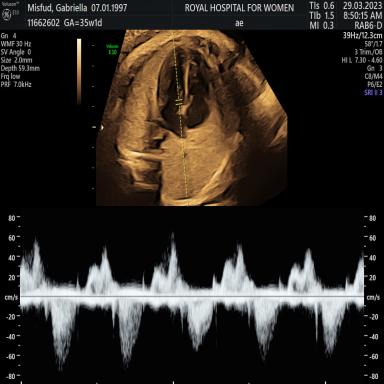Ultrasound-Waves: (26, 215, 362, 384)
